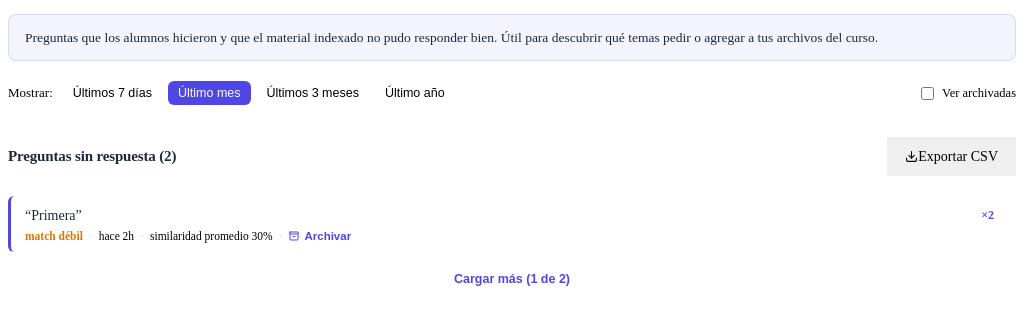
GapsPanel › carga más páginas mientras haya más resultados que los mostrados
The width and height of the screenshot is (1024, 334).
Expected: the text "“Primera”" is shown, [25, 208, 82, 223]
Click the button "Cargar más (1 de 2)" at (512,279), box [8, 264, 1016, 294]
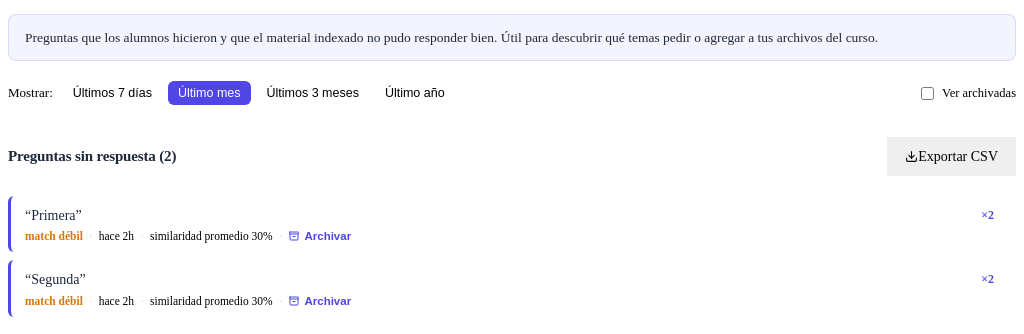
Now the text "“Segunda”" is shown, box [25, 272, 86, 287]
